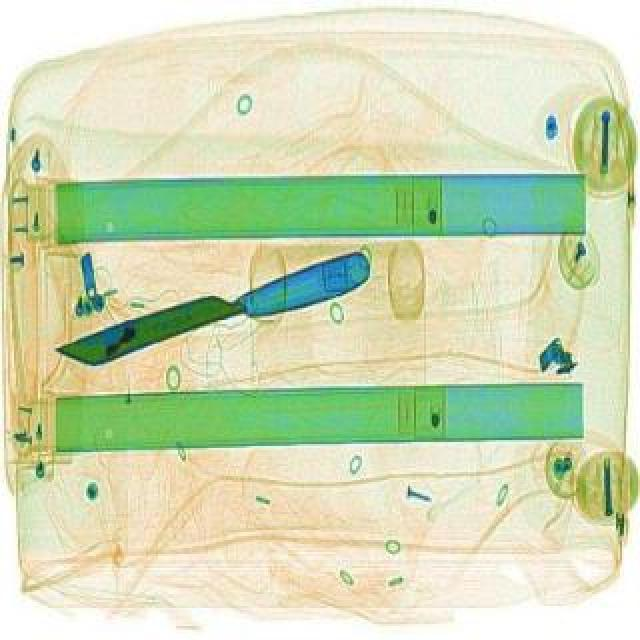knife: (48, 246, 374, 370)
